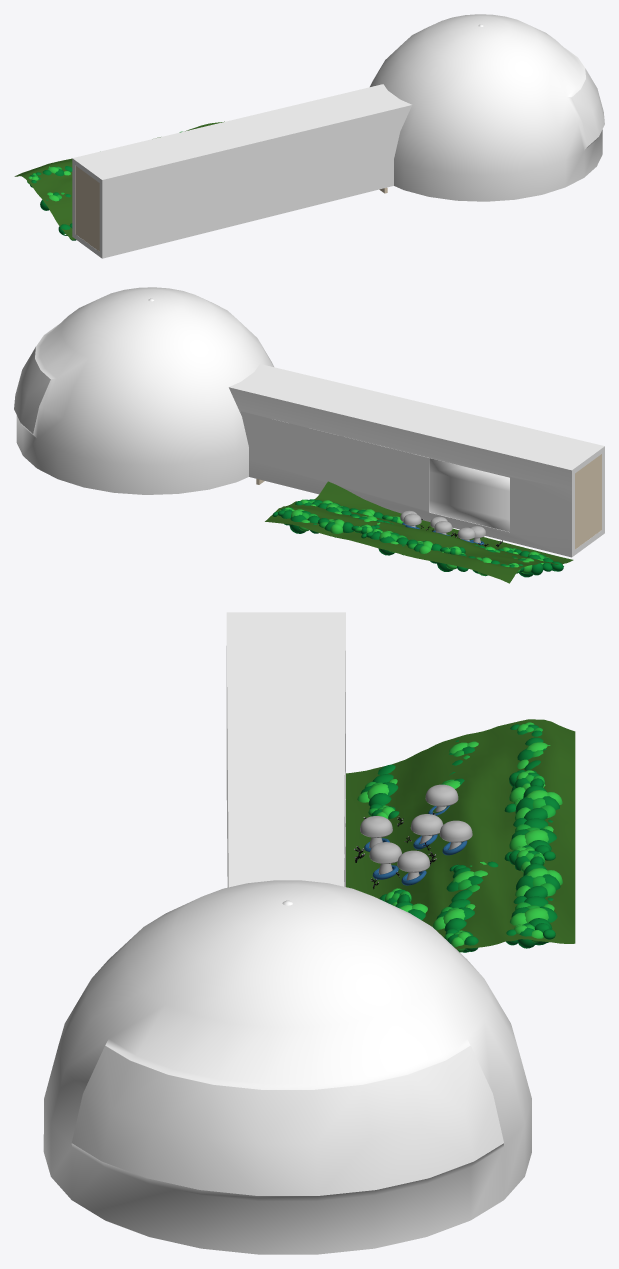
File: SceneRecyclage_Draco.glb
3 views of the same model, one above another, from view 1: azimuth 30°, elevation 25°; view 2: azimuth 150°, elevation 25°; view 3: azimuth 270°, elevation 25° (orthographic). The views are drawn at different scales.
Visible parts, largest first — view 1: Polygone, Base_dome, Sol_aquarium, Porte_ext, Vitre_dome_transparente; view 2: Base_dome, Polygone, Sol_aquarium, Vitre, Porte_ext, Vitre_dome_transparente, Buissons.2-vert-fonce, Buissons.1-vert-fonce, Buissons.7-vert-fonce; view 3: Base_dome, Polygone, Sol_aquarium, Vitre_dome_transparente, Buissons.2-vert-fonce, Buissons.1-vert-fonce, Buissons.4-vert-fonce, Buissons.2-vert-clair, Buissons.1-vert-clair, Buissons.4-vert-clair, Buissons.7-vert-fonce.
Boxes of the visible parts, box(x1,y1,x2,y2) form: Polygone: box(72, 84, 411, 258); Base_dome: box(370, 14, 604, 201); Sol_aquarium: box(14, 121, 224, 239); Porte_ext: box(75, 165, 99, 251); Vitre_dome_transparente: box(575, 68, 599, 142); Base_dome: box(14, 287, 273, 494); Polygone: box(228, 364, 604, 557); Sol_aquarium: box(265, 481, 573, 583); Vitre: box(429, 458, 509, 531); Porte_ext: box(575, 454, 601, 549); Vitre_dome_transparente: box(19, 347, 50, 432); Buissons.2-vert-fonce: box(272, 507, 376, 537); Buissons.1-vert-fonce: box(361, 529, 465, 555); Buissons.7-vert-fonce: box(498, 547, 563, 571); Base_dome: box(43, 880, 531, 1254); Polygone: box(226, 612, 345, 887); Sol_aquarium: box(346, 719, 575, 949); Vitre_dome_transparente: box(79, 1045, 503, 1163); Buissons.2-vert-fonce: box(506, 850, 560, 948); Buissons.1-vert-fonce: box(504, 772, 559, 861); Buissons.4-vert-fonce: box(436, 861, 498, 952); Buissons.2-vert-clair: box(510, 848, 562, 942); Buissons.1-vert-clair: box(509, 770, 562, 854); Buissons.4-vert-clair: box(432, 861, 487, 952); Buissons.7-vert-fonce: box(360, 764, 399, 818).
Size of the model in its own units: 21.42 by 5.58 by 9.79.
18 materials, 3 textured.
